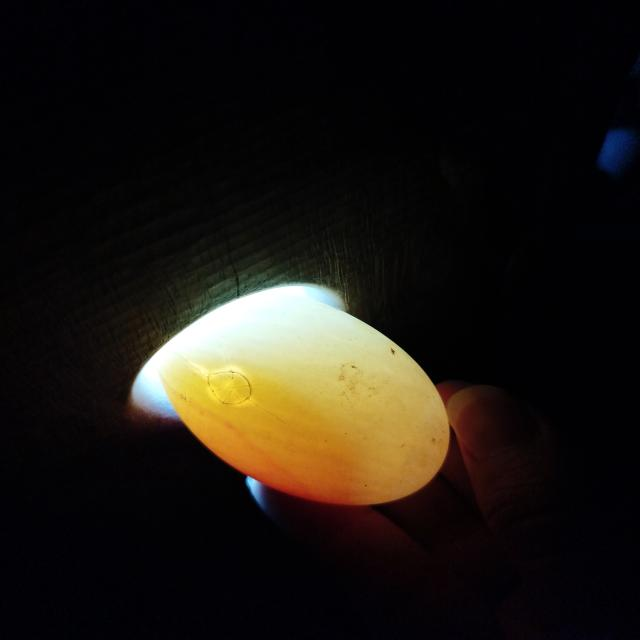Rachadura: (208, 372, 252, 403)
